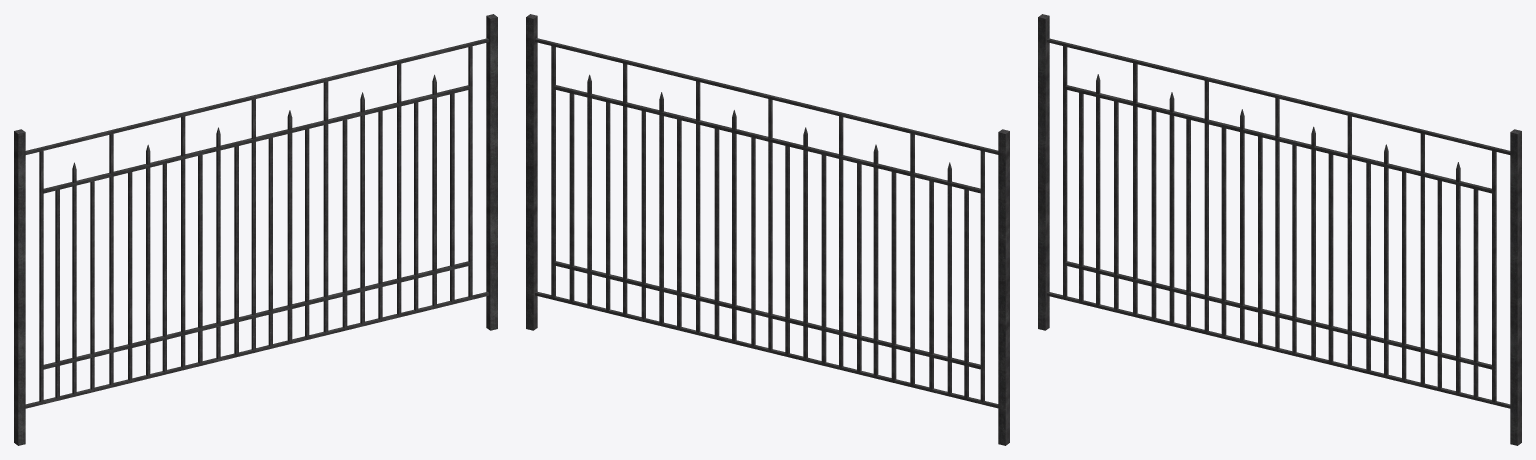
File: metallic fence.FBX
3 renders of one model, left to right at view 1: azimuth 30°, elevation 25°; view 2: azimuth 150°, elevation 25°; view 3: azimuth 330°, elevation 25°, orthographic.
Visible parts, largest first — view 1: metallic_fence; view 2: metallic_fence; view 3: metallic_fence.
Part boxes in pixels (<box>): metallic_fence: <box>14,14,497,445</box>; metallic_fence: <box>526,14,1009,445</box>; metallic_fence: <box>1038,14,1521,445</box>.
Size of the model in its own units: 363 by 5.55 by 226.
